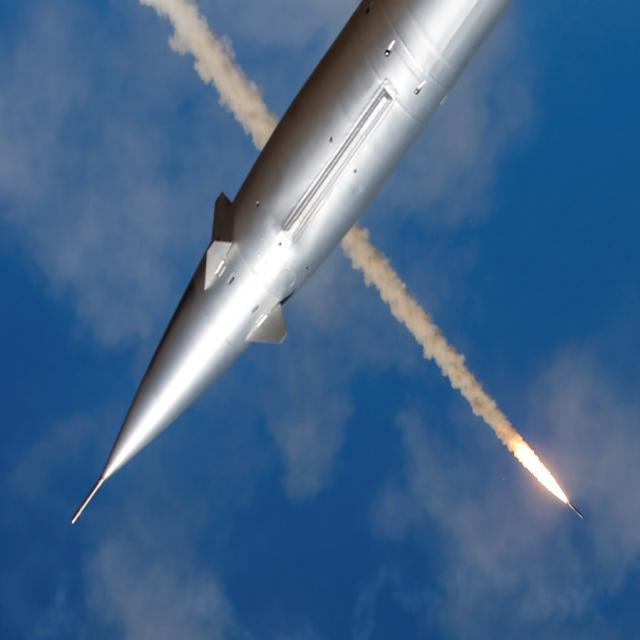missile: (59, 0, 513, 533), (562, 494, 591, 528)
